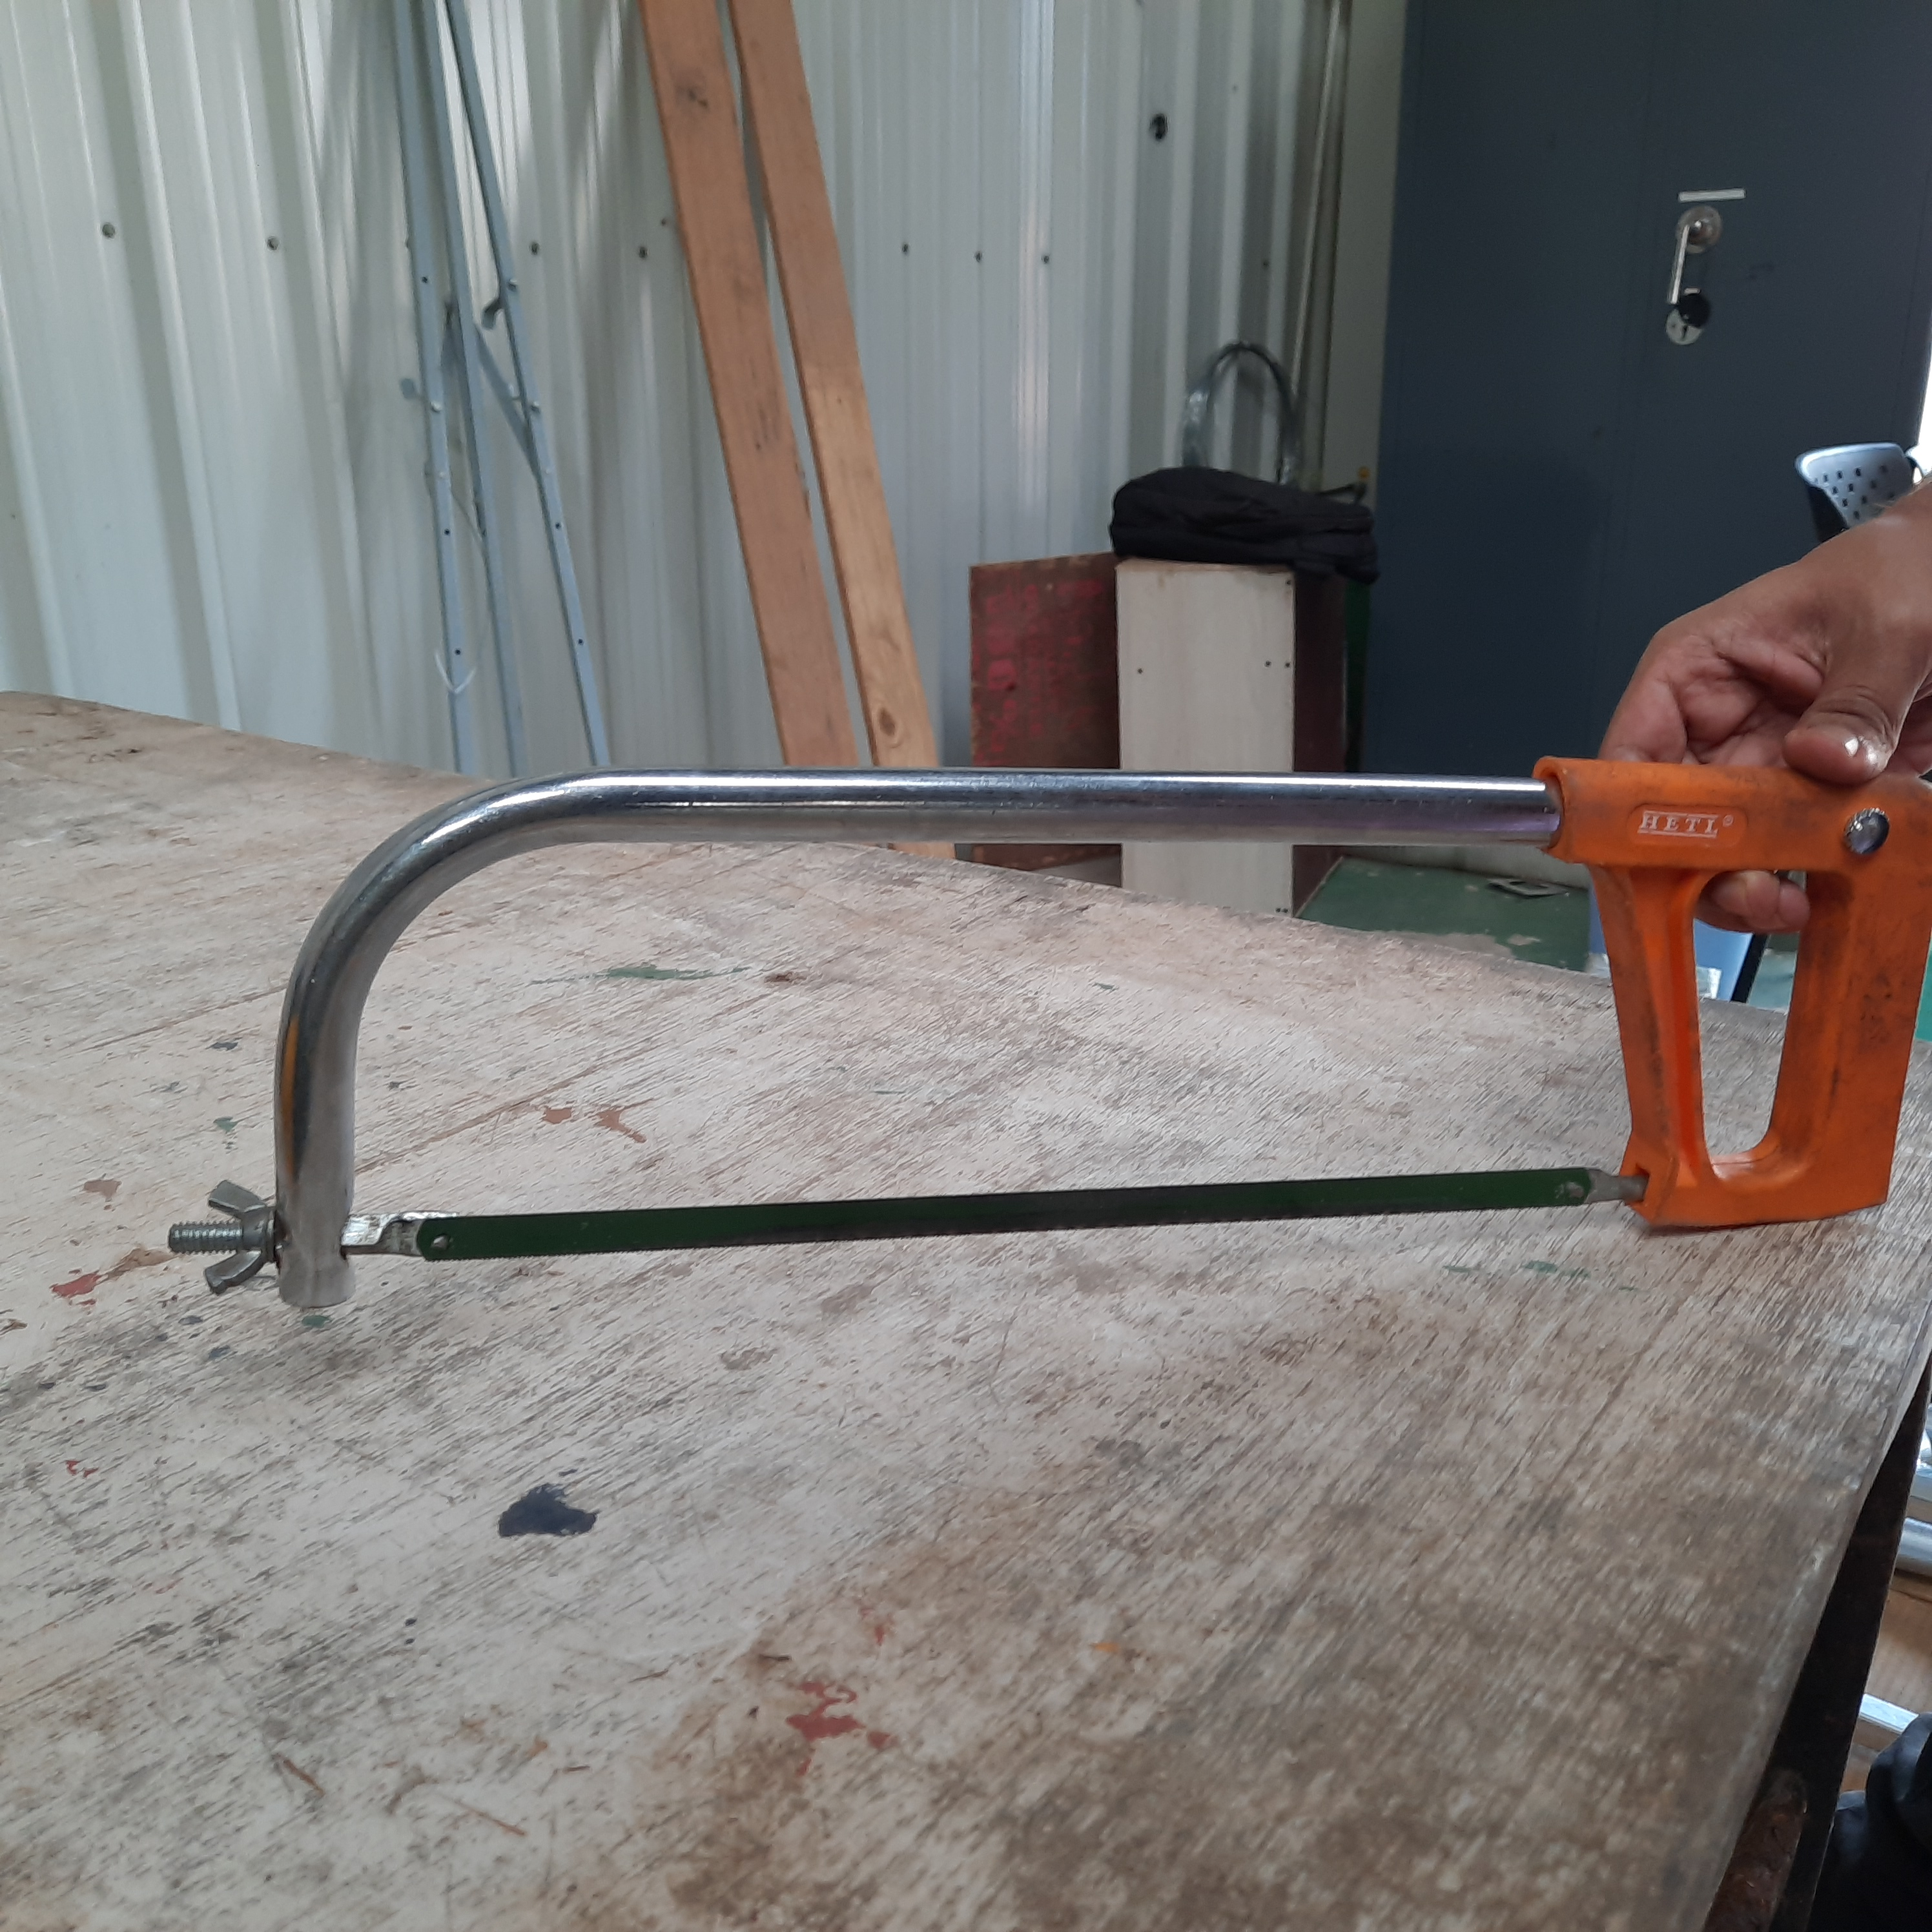Hexaframe: (205, 727, 1932, 1277)
